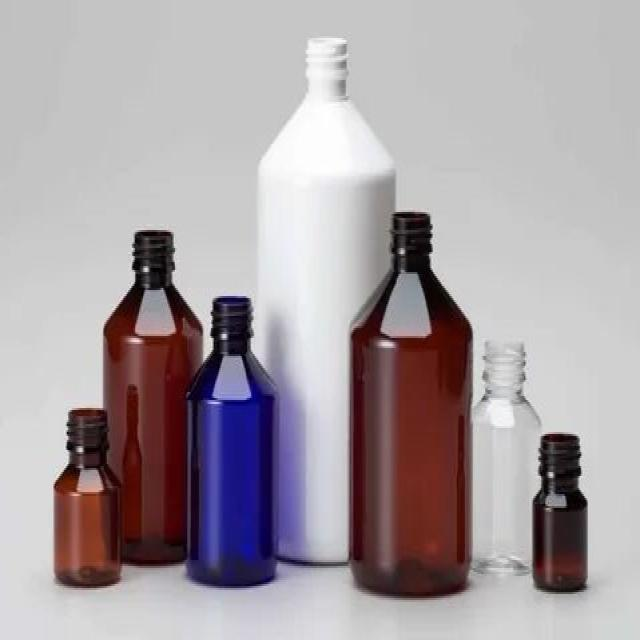brown: (350, 212, 471, 596), (106, 232, 202, 365), (52, 408, 122, 585), (534, 435, 588, 590)
